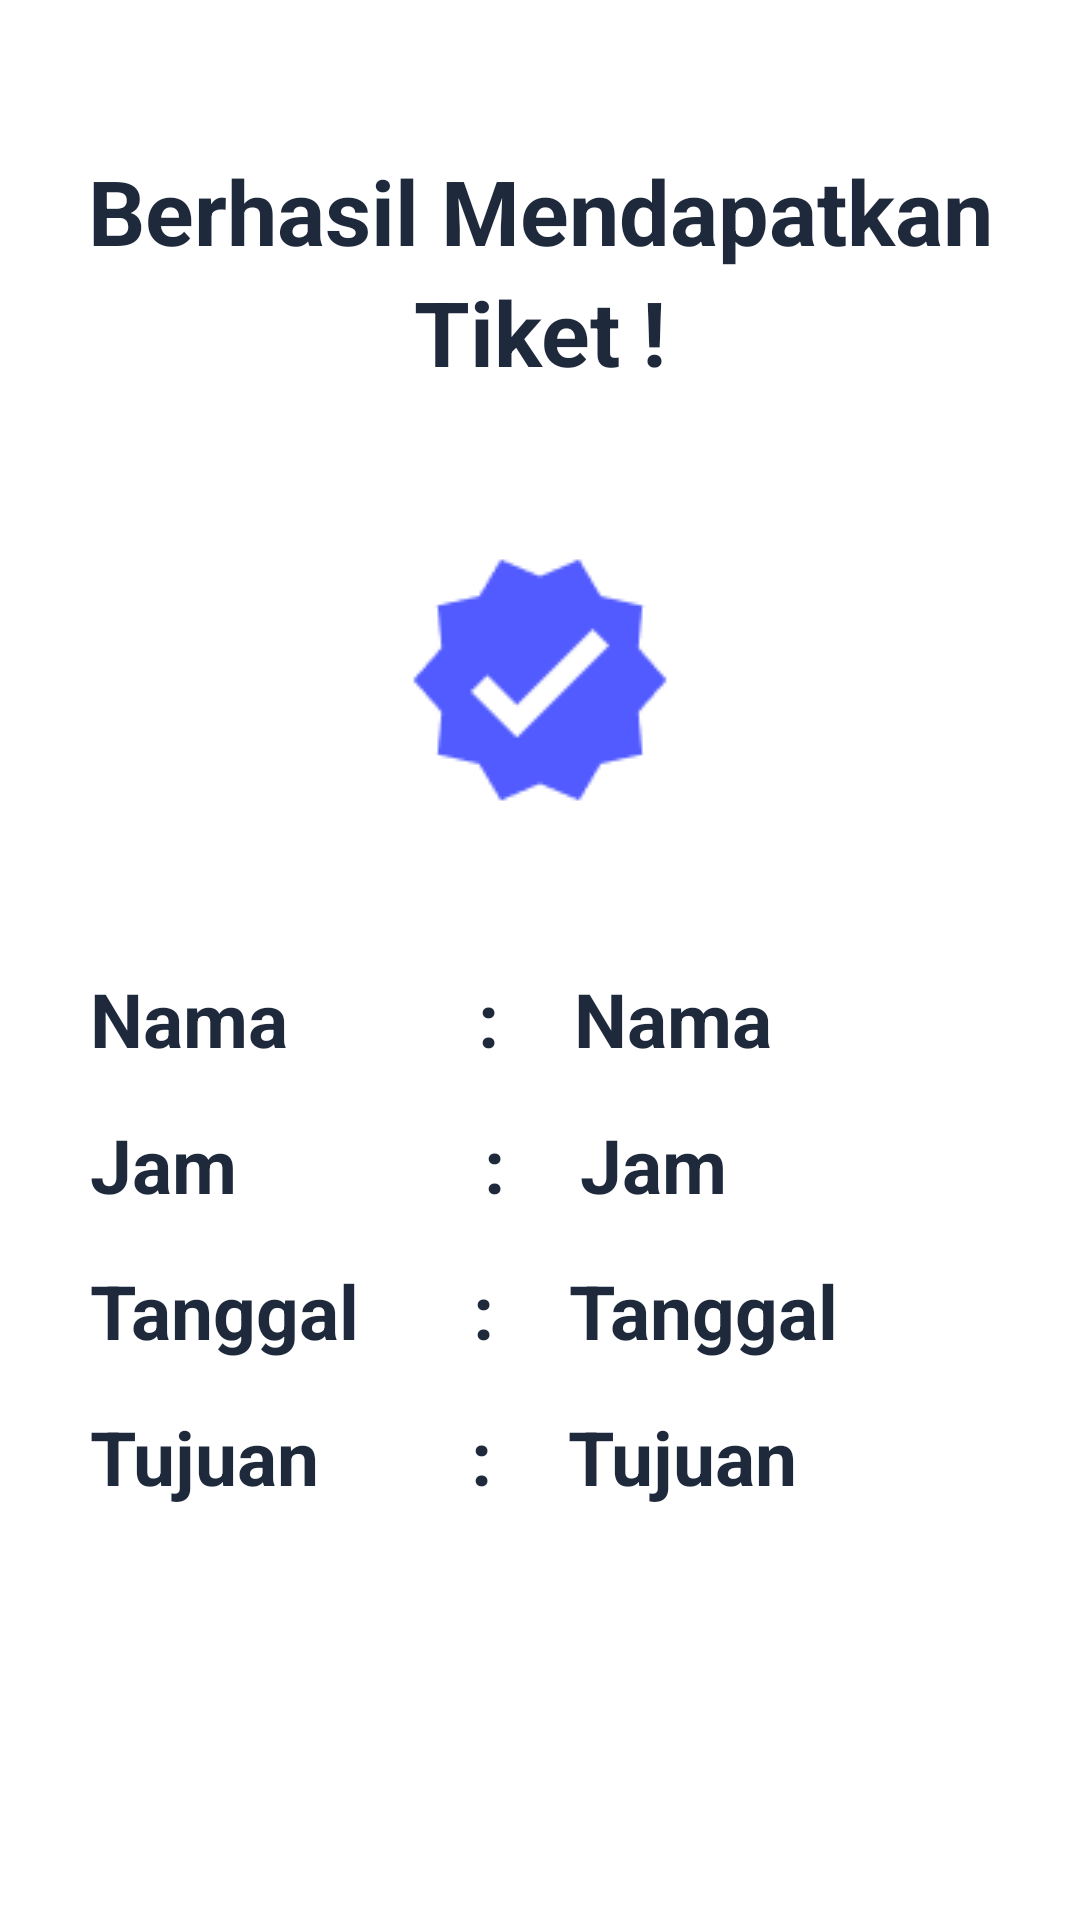

Icon bounding boxes for this 1080x1920 phone screenshot, format (x1, y1, x2, y2):
check: (413, 559, 667, 801)
